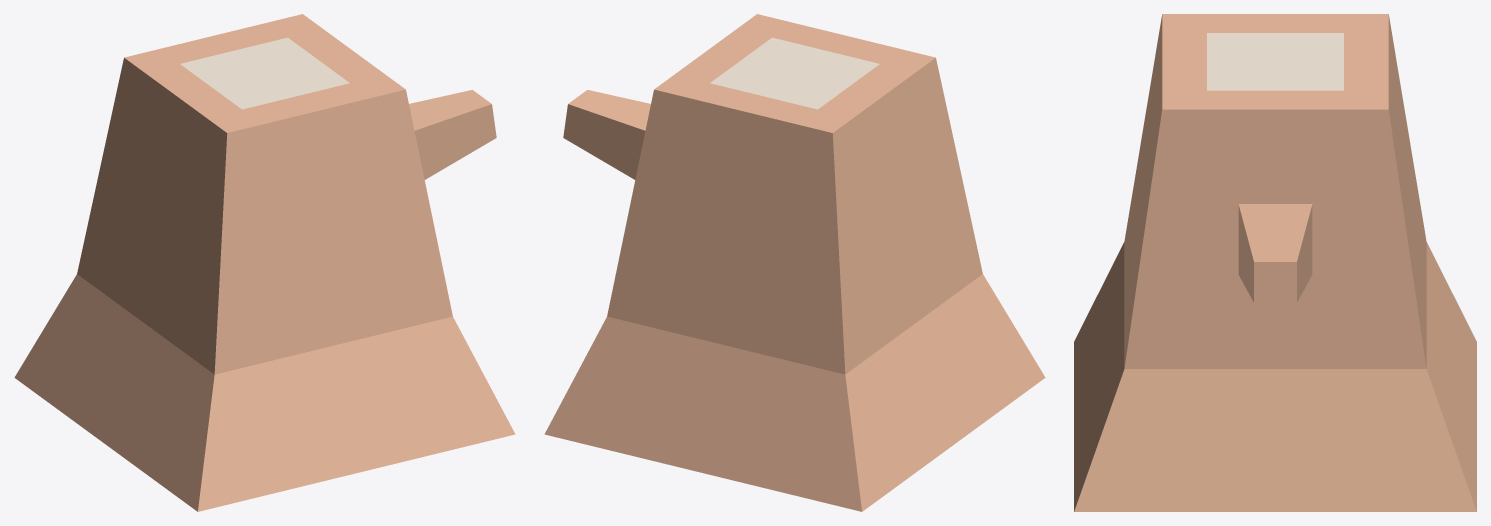
File: stump_square.glb
The picture shows the model from 3 angles, left to right: view 1: azimuth 30°, elevation 25°; view 2: azimuth 150°, elevation 25°; view 3: azimuth 270°, elevation 25°; orthographic projection. The views are drawn at different scales.
Parts seen in each view (by area): view 1: stump_square; view 2: stump_square; view 3: stump_square.
Boxes of the visible parts, x1=… form: stump_square: x1=14, y1=14, x2=515, y2=511; stump_square: x1=544, y1=14, x2=1045, y2=511; stump_square: x1=1074, y1=14, x2=1476, y2=511.
Bounding box in the file's own units: 0.4315 × 0.36 × 0.36.
